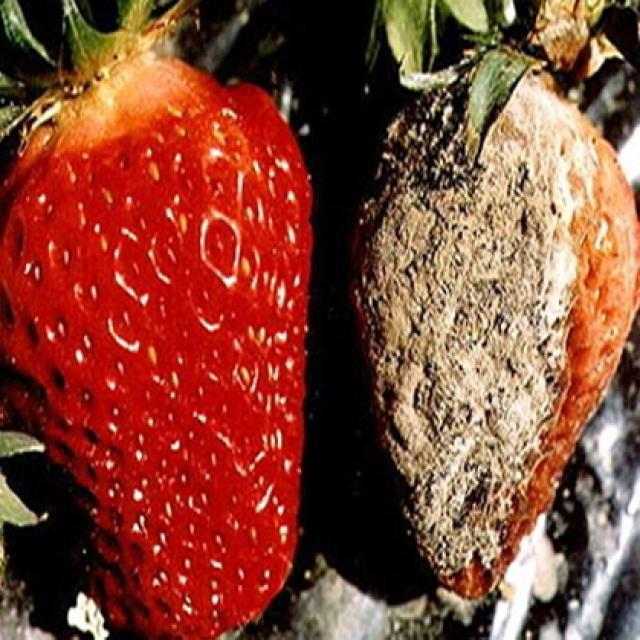Gray Mold: (352, 43, 638, 598)
